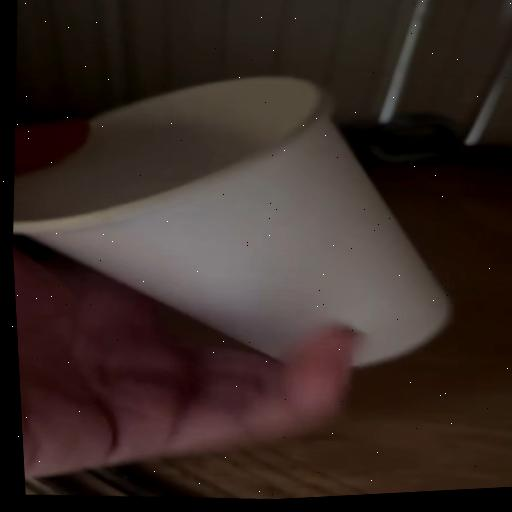Ly_giay: (13, 76, 449, 365)
